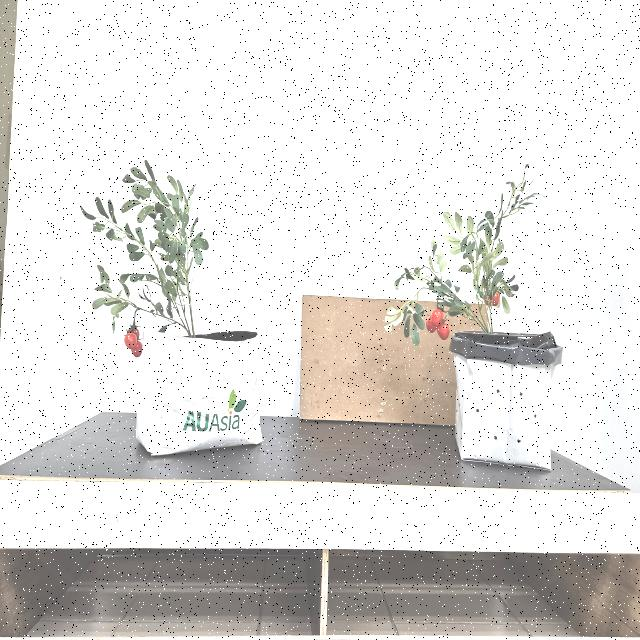Soilbag: (135, 330, 263, 458), (449, 332, 563, 473)
Tomato: (423, 305, 452, 343), (122, 327, 144, 359)
plant: (384, 165, 546, 348), (80, 160, 209, 358)
